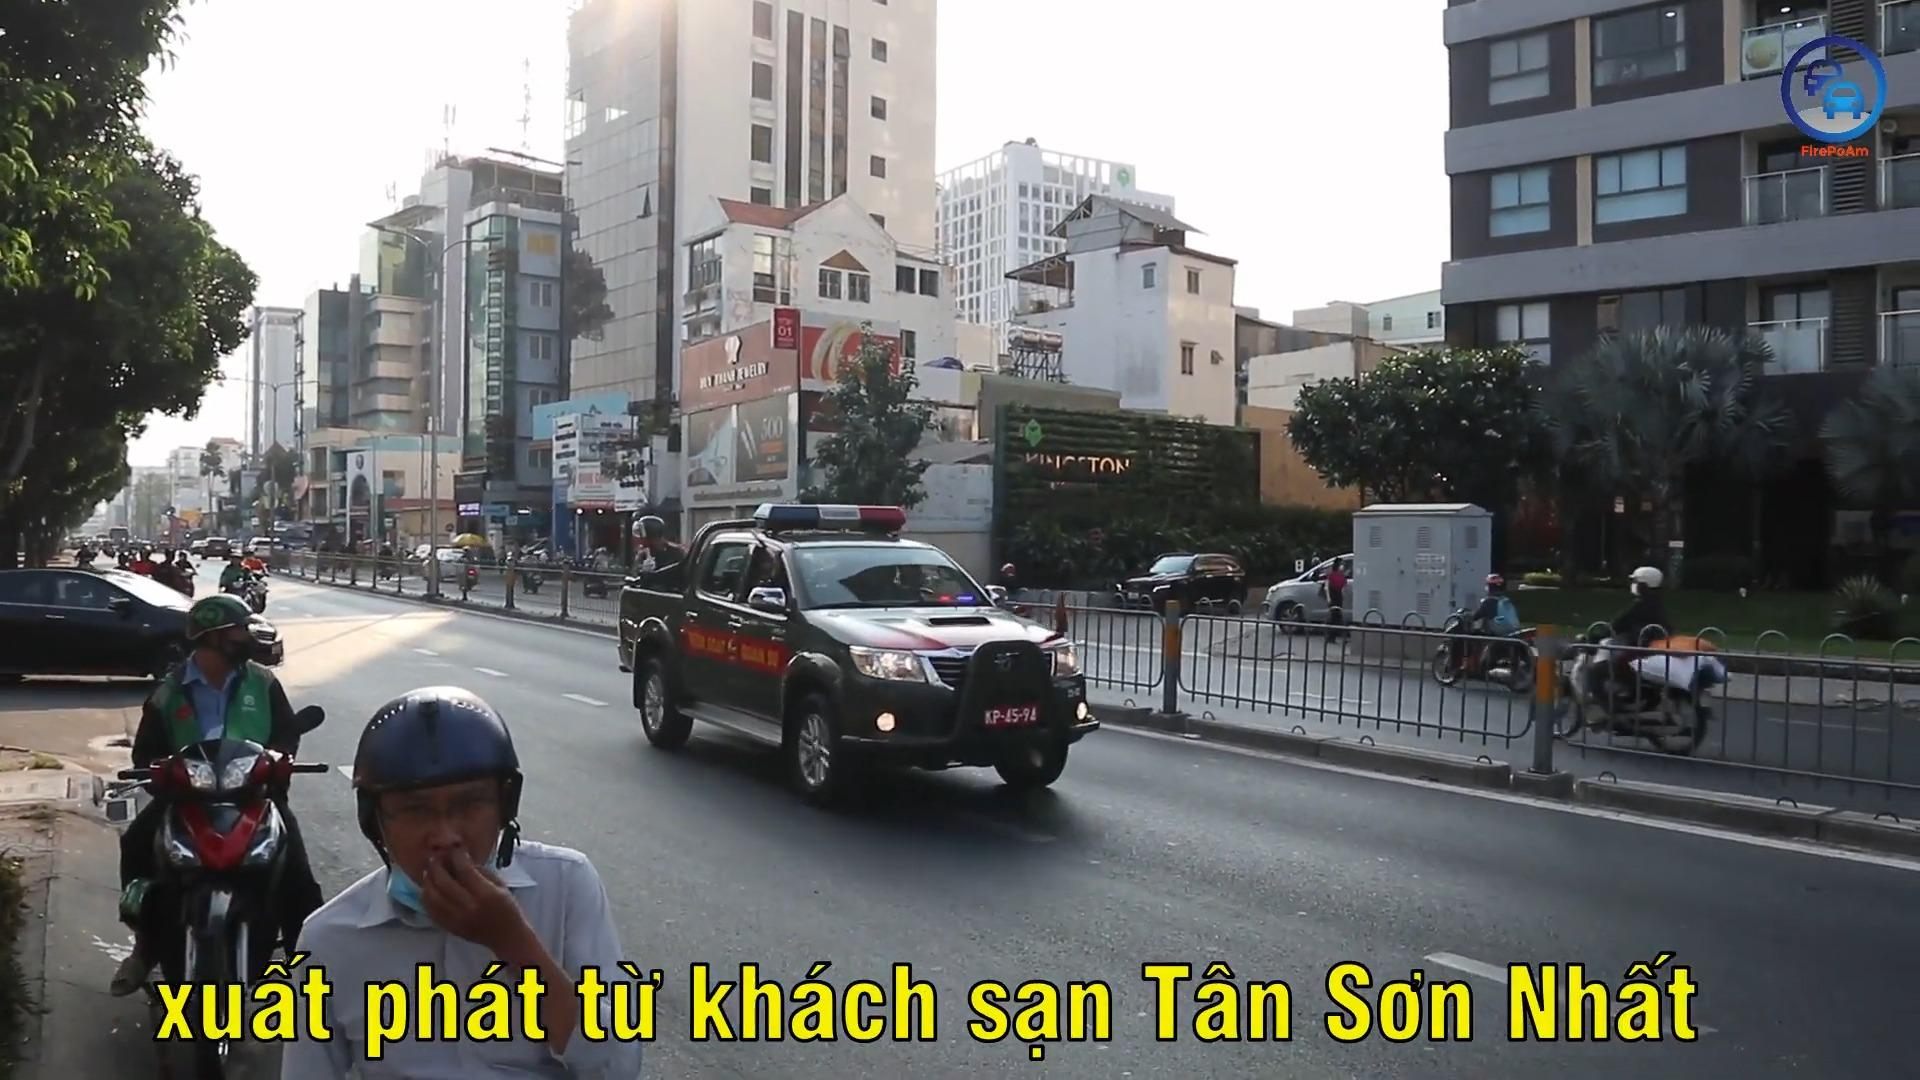bien_so: (981, 701, 1041, 728)
